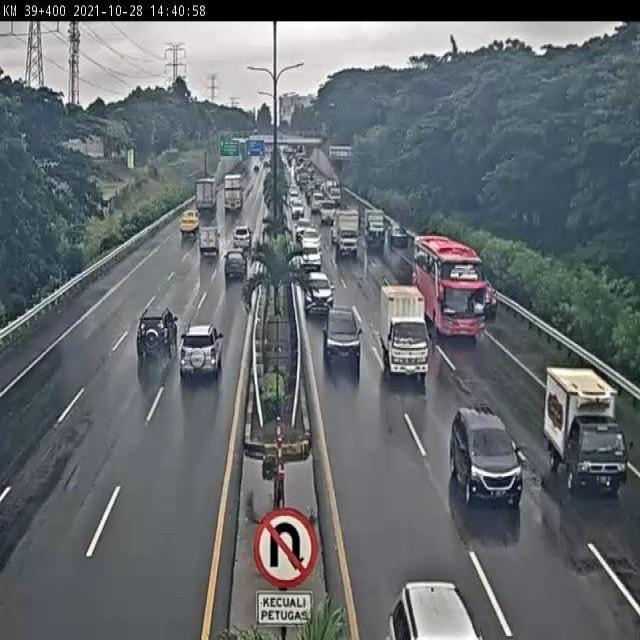car: (449, 407, 525, 505), (178, 323, 223, 380), (136, 305, 180, 359), (322, 307, 363, 363), (303, 271, 334, 316), (222, 247, 249, 283)
truck: (543, 365, 628, 492), (413, 235, 486, 340), (378, 285, 430, 384)
